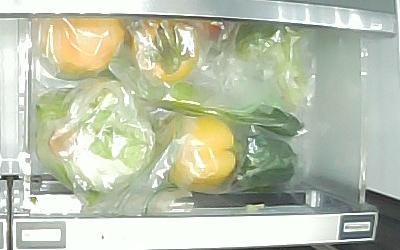broccoli_vinyl: (233, 23, 319, 110)
cucumber_vinyl: (156, 80, 304, 139)
grapefruit_vinyl: (37, 18, 124, 80)
lettuce_vinyl: (35, 82, 153, 193)
paprika_vinyl: (159, 113, 236, 191), (235, 135, 301, 194)
persimmon_vinyl: (132, 20, 203, 83)
